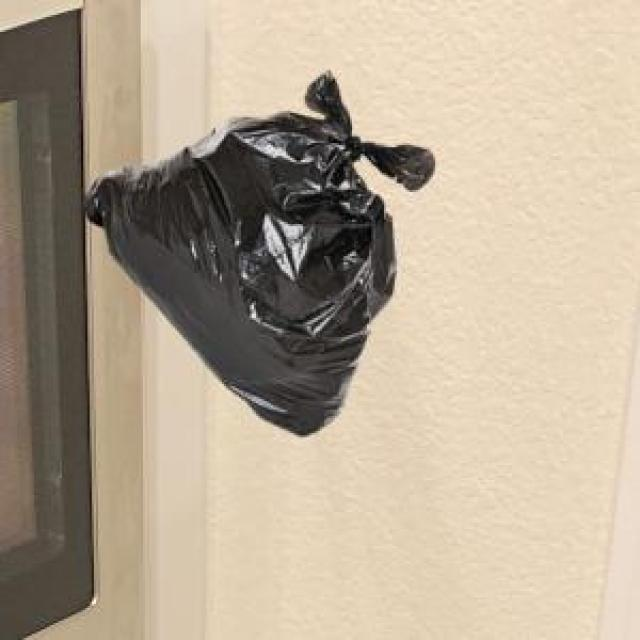waste: (85, 72, 435, 434)
